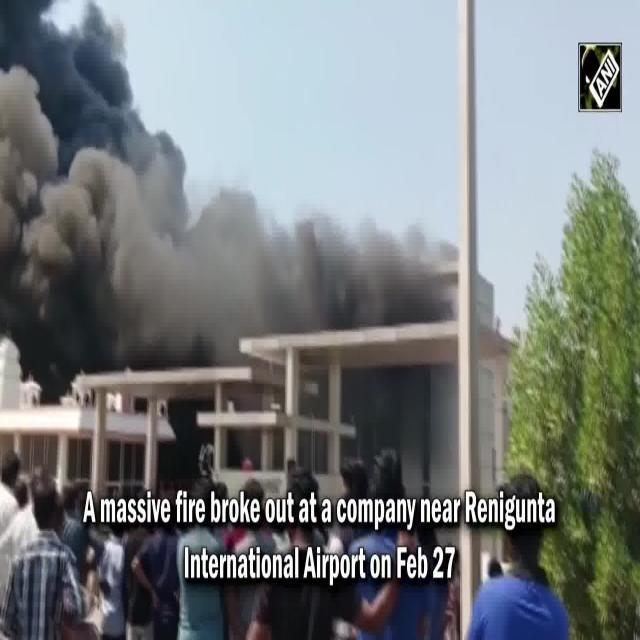Smoke: (138, 172, 457, 334), (2, 17, 135, 365)
